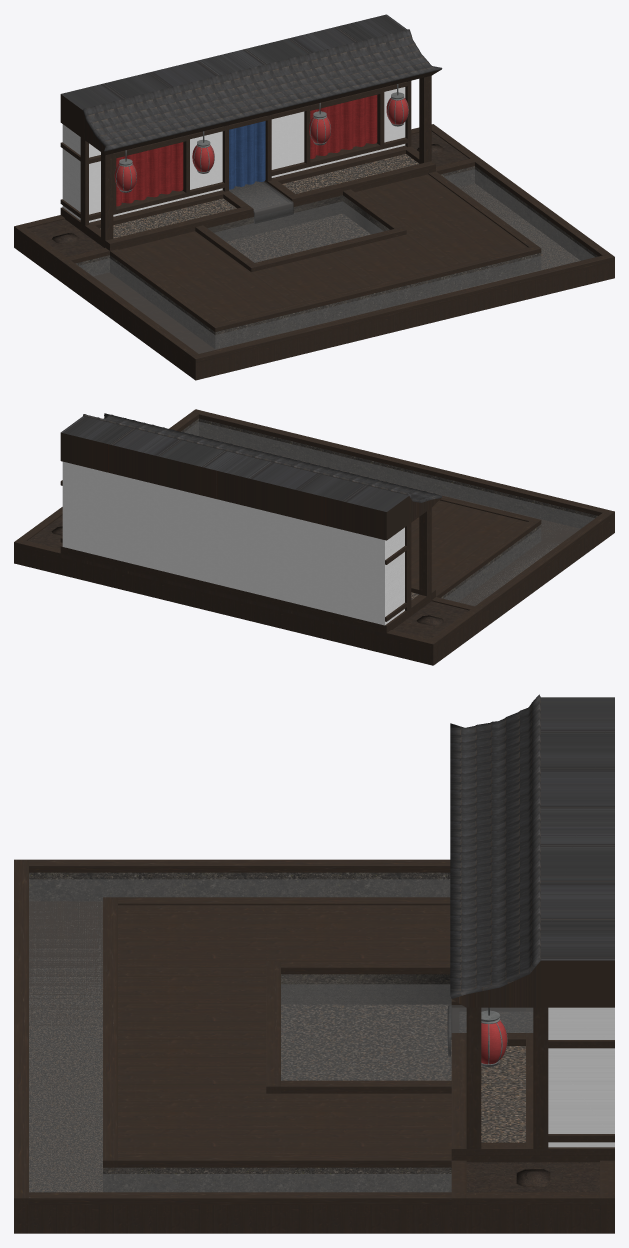
The model's file is bath.dae.
3 renders of one model, top to bottom at view 1: azimuth 30°, elevation 25°; view 2: azimuth 150°, elevation 25°; view 3: azimuth 270°, elevation 25°, orthographic. The views are drawn at different scales.
Parts seen in each view (by area): view 1: Plane, Plane.035, Plane.052, Plane.053, Plane.045, Plane.064, Plane.025, Plane.009, Plane.049, Plane.008, Plane.007, Plane.006 (+31 smaller); view 2: Plane.025, Plane.052, Plane.033, Plane.053, Plane.045, Plane.064, Plane, Plane.049, Plane.035, Plane.015, Plane.048, Plane.067 (+11 smaller); view 3: Plane, Plane.053, Plane.052, Plane.035, Plane.064, Plane.045, Plane.046, Plane.009, Plane.008, Plane.025, Plane.048, Plane.033 (+23 smaller).
Part boxes in pixels (box(x1,y1,x2,y2)): Plane: box(119, 174, 527, 322); Plane.035: box(91, 31, 428, 148); Plane.052: box(14, 182, 614, 380); Plane.053: box(79, 169, 594, 353); Plane.045: box(75, 166, 598, 348); Plane.064: box(61, 14, 406, 109); Plane.025: box(62, 87, 405, 222); Plane.009: box(214, 201, 383, 262); Plane.049: box(191, 253, 614, 363); Plane.008: box(227, 214, 370, 262); Plane.007: box(207, 195, 389, 241); Plane.006: box(210, 245, 541, 331); Plane.025: box(62, 461, 404, 625); Plane.052: box(14, 436, 614, 665); Plane.033: box(60, 417, 441, 540); Plane.053: box(184, 421, 594, 606); Plane.045: box(181, 418, 597, 601); Plane.064: box(61, 416, 408, 511); Plane: box(411, 500, 527, 589); Plane.049: box(191, 409, 614, 518); Plane.035: box(91, 416, 428, 498); Plane.015: box(60, 550, 435, 636); Plane.048: box(475, 513, 610, 611); Plane.067: box(68, 548, 378, 627); Plane: box(118, 905, 451, 1154); Plane.053: box(29, 879, 451, 1192); Plane.052: box(14, 901, 614, 1233); Plane.035: box(450, 701, 540, 984); Plane.064: box(540, 697, 614, 960); Plane.045: box(29, 872, 451, 1191); Plane.046: box(29, 901, 102, 1191); Plane.009: box(281, 984, 451, 1080); Plane.008: box(281, 1005, 451, 1080); Plane.025: box(548, 1007, 614, 1147); Plane.048: box(29, 859, 450, 872); Plane.033: box(452, 960, 614, 1007).
Bounding box in the file's own units: 21.6 × 16.2 × 7.11.
Materials: 11 (10 with a texture image).
